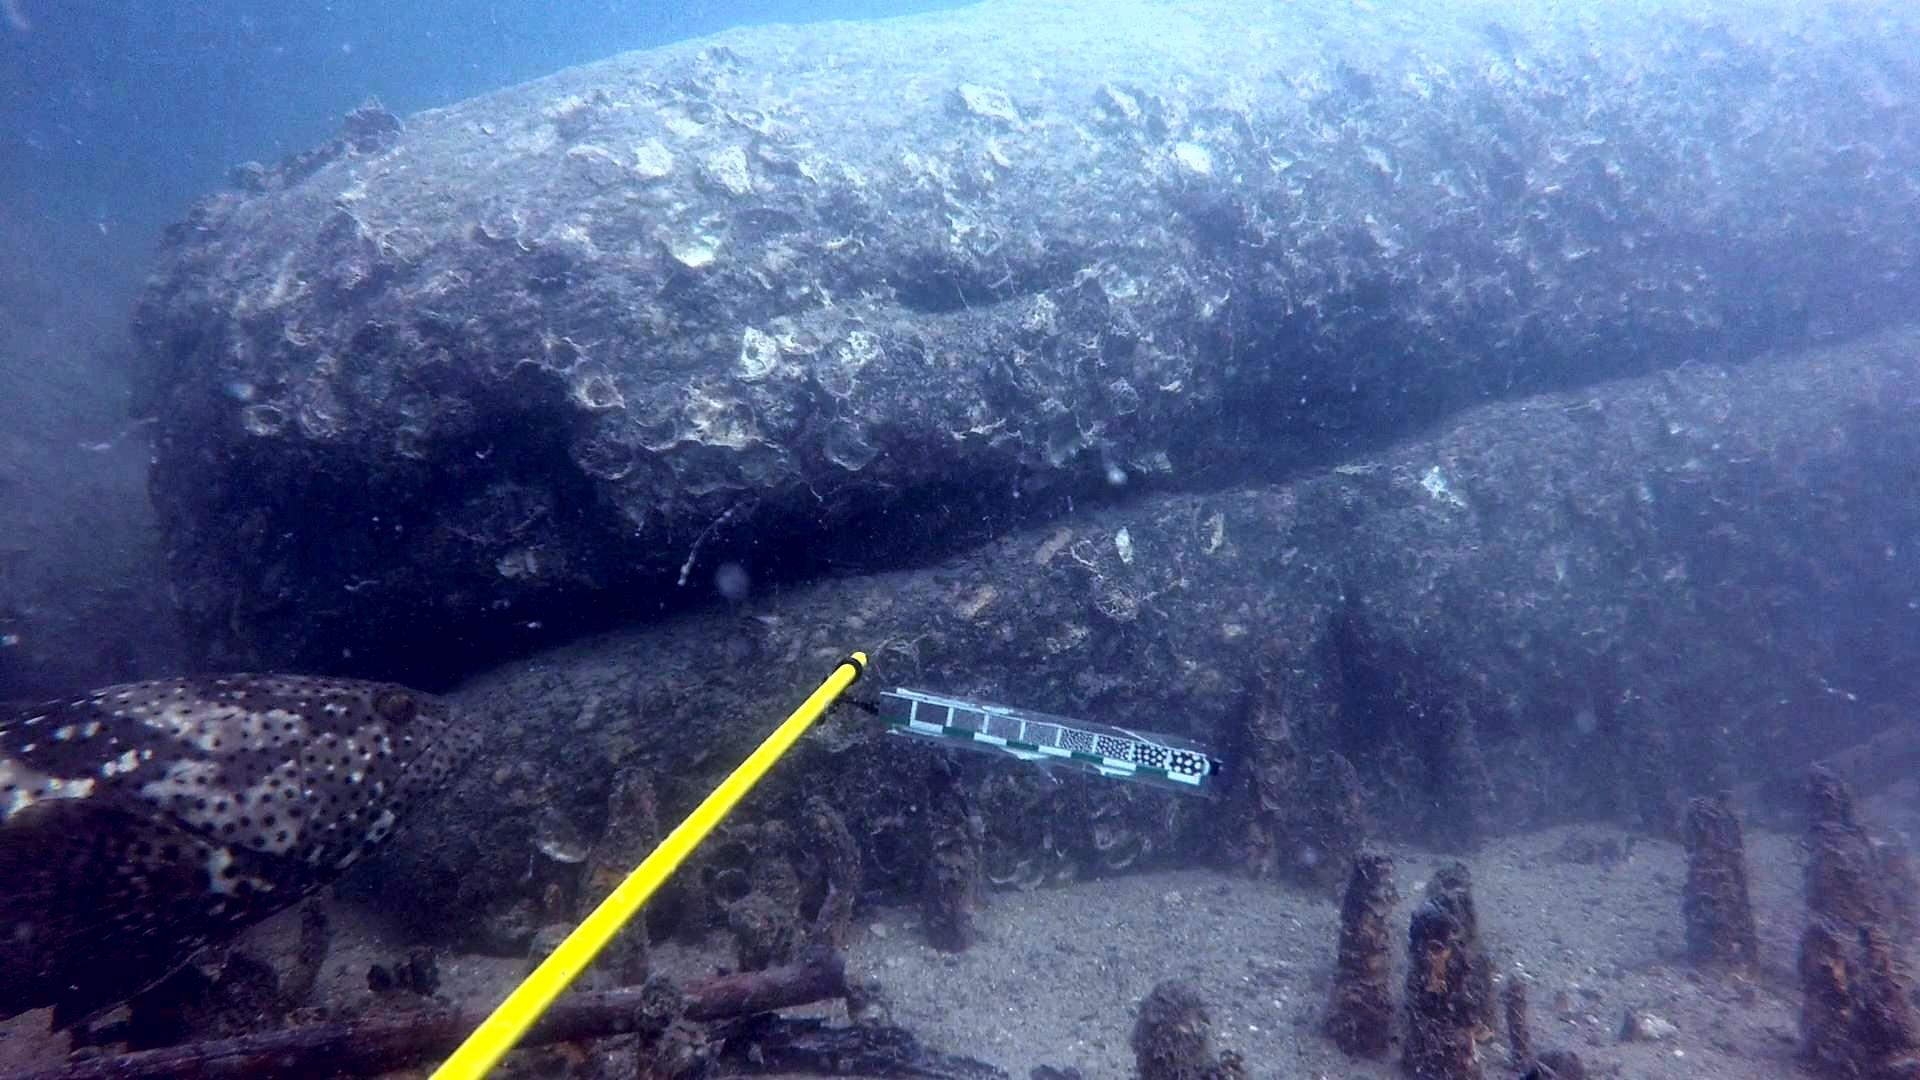epinephelus: (0, 665, 508, 1058)
